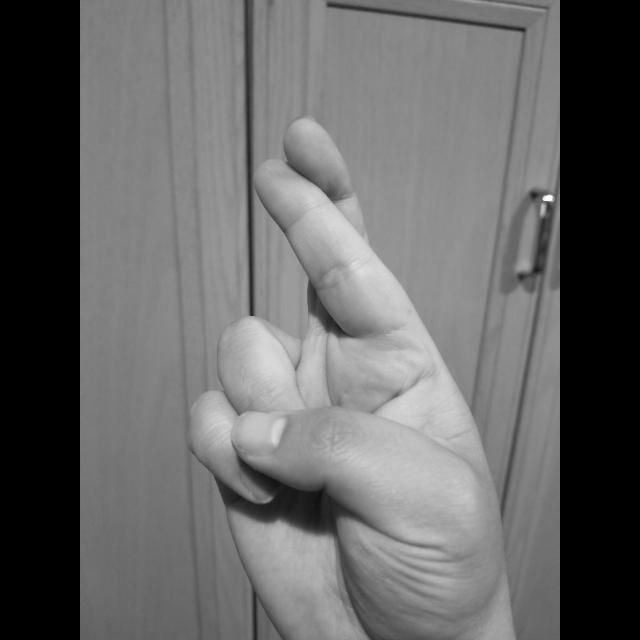R: (176, 110, 530, 640)
